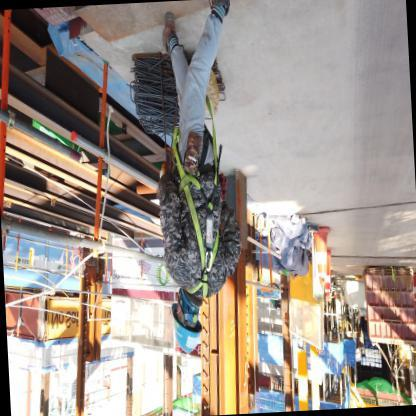safety-shoe: (151, 10, 178, 54)
